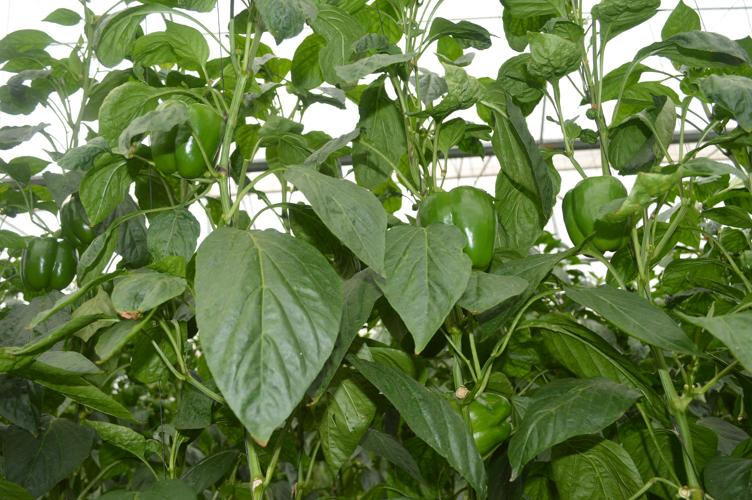BellPepper: (417, 186, 499, 263), (144, 100, 222, 177), (560, 176, 626, 251), (446, 392, 513, 452), (15, 238, 79, 292), (59, 199, 90, 248)
